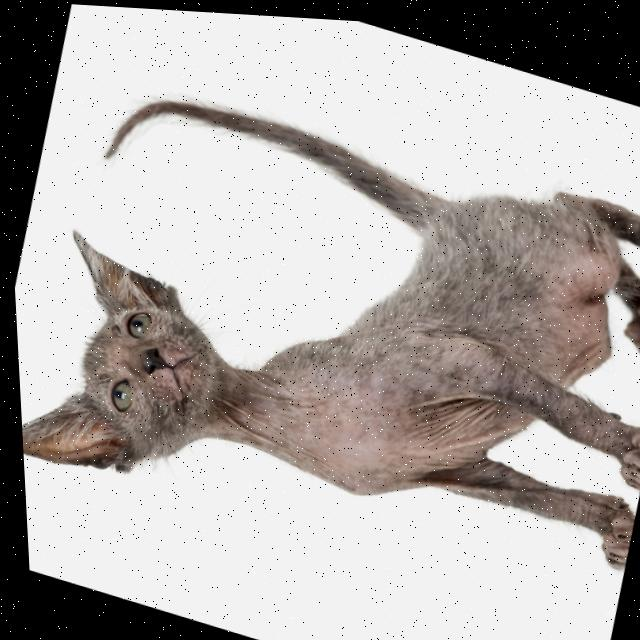Lykoi: (1, 29, 640, 633)
